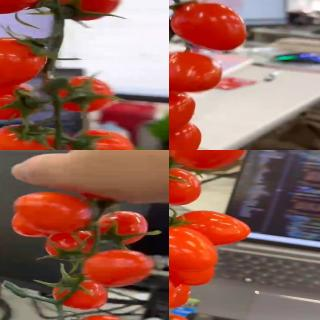tomato: (173, 0, 251, 51), (14, 192, 92, 233), (169, 209, 252, 246), (81, 248, 155, 288), (42, 77, 116, 113), (0, 38, 48, 89), (169, 225, 221, 271), (169, 51, 223, 93), (96, 210, 150, 250), (51, 274, 110, 310), (169, 150, 250, 175), (41, 228, 97, 262), (64, 127, 137, 150), (0, 85, 42, 124), (0, 122, 55, 150), (56, 0, 123, 21), (169, 166, 202, 206), (169, 88, 195, 133), (169, 120, 201, 150)
